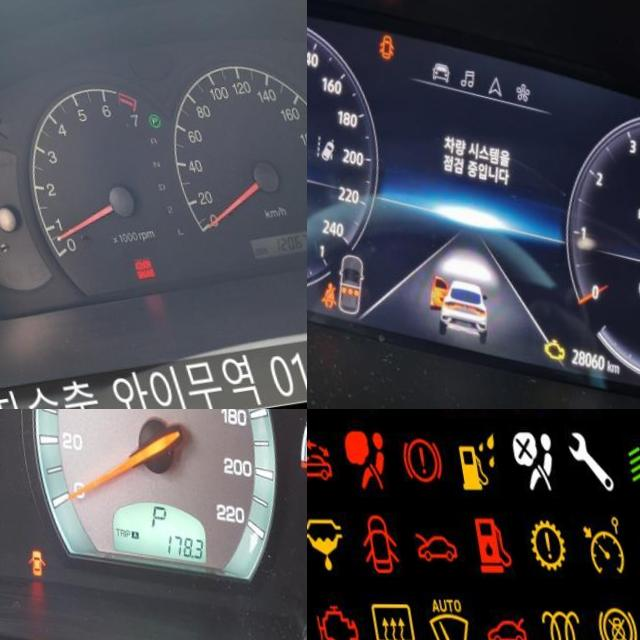Doors: (369, 31, 394, 59), (8, 547, 31, 577)
